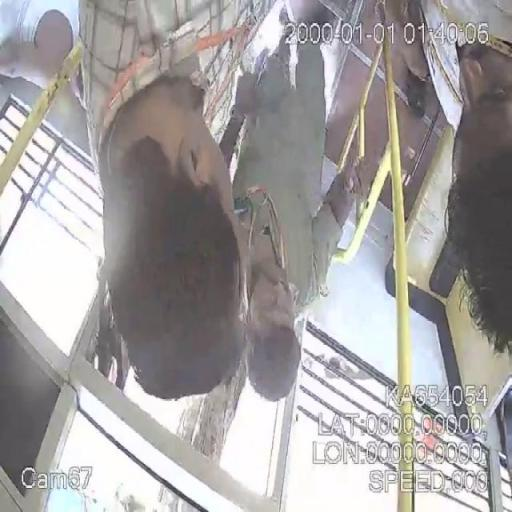persona: (94, 68, 249, 402), (239, 16, 354, 404), (426, 3, 512, 356)
